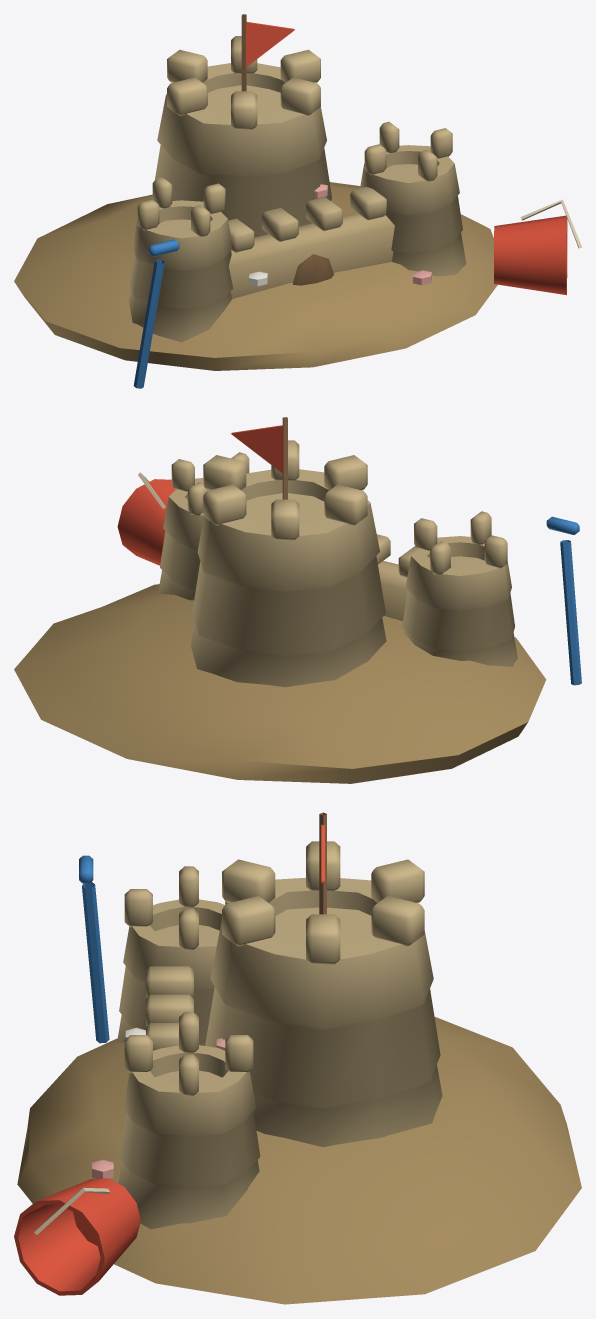
The model's file is sandcastle.glb.
The picture shows the model from 3 angles, top to bottom: view 1: azimuth 30°, elevation 25°; view 2: azimuth 150°, elevation 25°; view 3: azimuth 270°, elevation 25°; orthographic projection. The views are drawn at different scales.
Visible parts, largest first — view 1: sandcastle; view 2: sandcastle; view 3: sandcastle.
Boxes of the visible parts, x1,y1,x2,y2 form: sandcastle: (14, 14, 581, 388); sandcastle: (14, 417, 581, 783); sandcastle: (14, 812, 581, 1304).
Size of the model in its own units: 1.44 by 0.8059 by 1.19.
